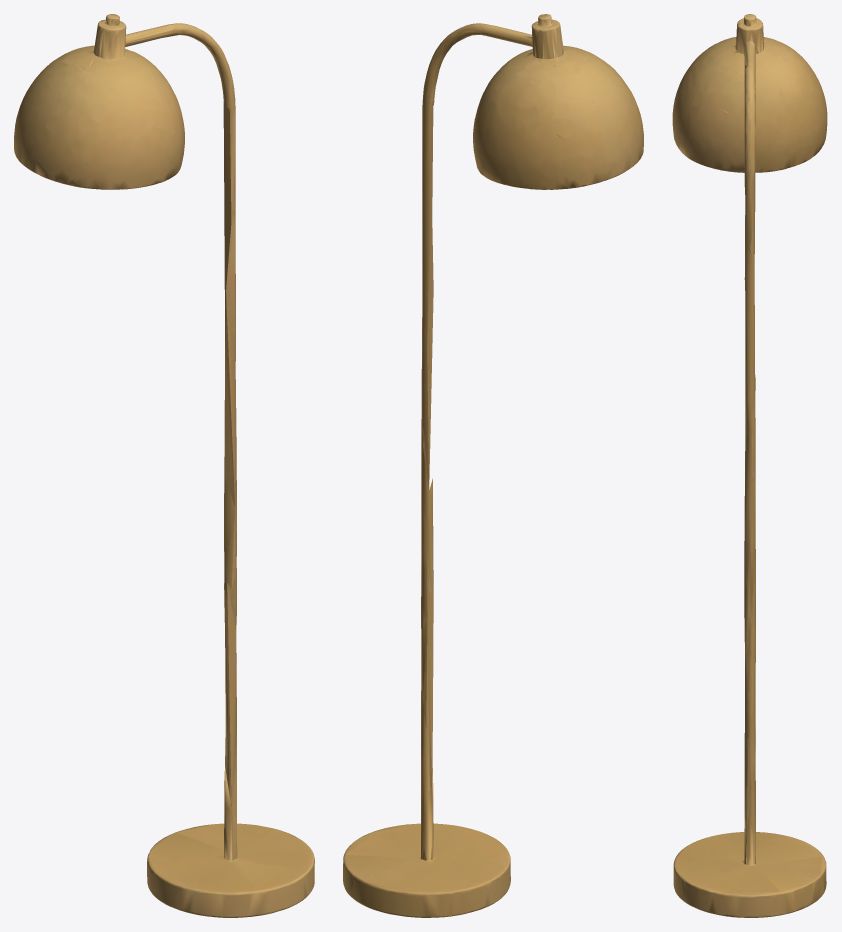
Rendered from floor-lamp.glb.
3 renders of one model, left to right at view 1: azimuth 30°, elevation 25°; view 2: azimuth 150°, elevation 25°; view 3: azimuth 270°, elevation 25°, orthographic. The views are drawn at different scales.
Visible parts, largest first — view 1: output_unwrapped; view 2: output_unwrapped; view 3: output_unwrapped.
Boxes of the visible parts, bbox=[...] form: output_unwrapped: bbox=[14, 14, 314, 917]; output_unwrapped: bbox=[343, 14, 643, 917]; output_unwrapped: bbox=[672, 14, 827, 917].
Bounding box in the file's own units: 0.5508 × 1.7 × 0.292.
Materials: 1 (1 with a texture image).
